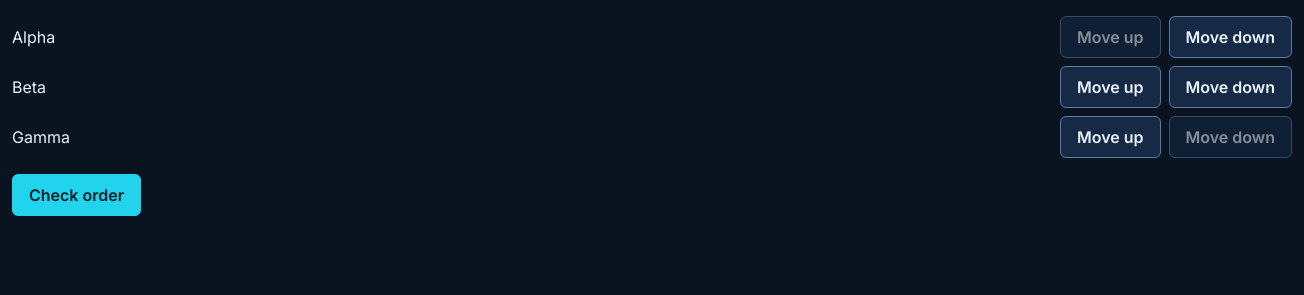
Test: SequencingPlayer › marks every row with feedback after Check order
Click the button "Check order" at (77, 195), box left=12, top=174, right=141, bottom=216
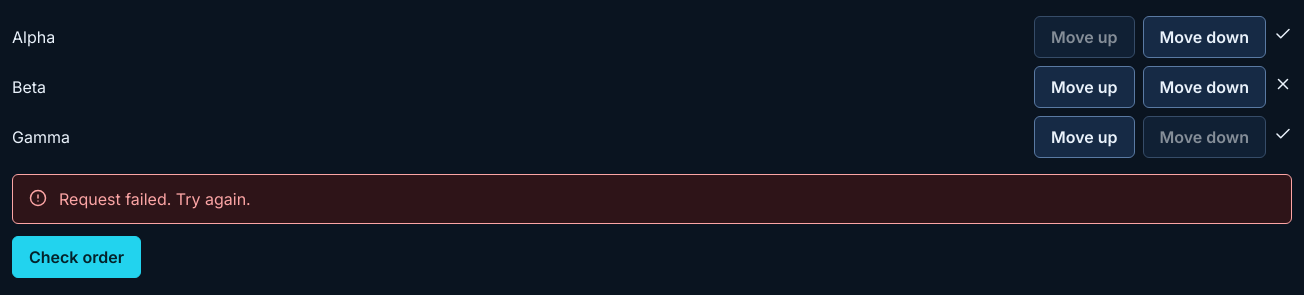
Check: the picture named "Correct" in the row of "Alpha" is shown, box left=1274, top=25, right=1292, bottom=43
Check: the picture named "Incorrect" is shown, box left=1274, top=75, right=1292, bottom=93
Check: the picture named "Correct" in the row of "Gamma" is shown, box left=1274, top=125, right=1292, bottom=143
